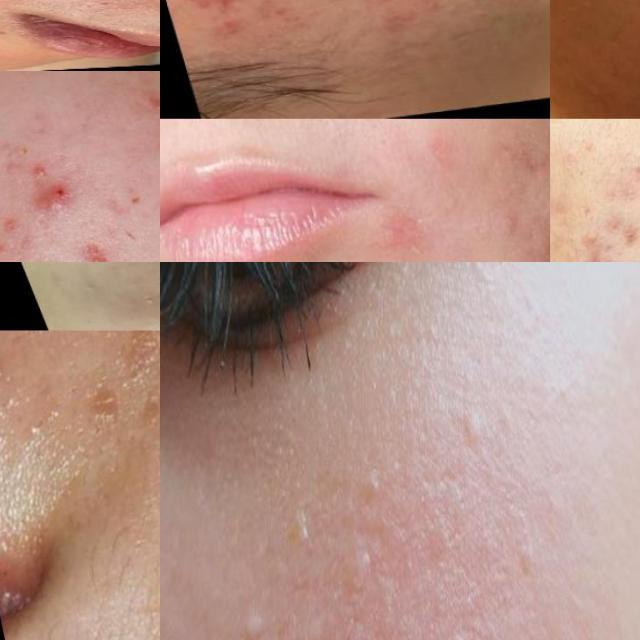acne_scars: (514, 213, 549, 262), (69, 230, 114, 262)
comedone: (129, 276, 160, 312), (435, 0, 473, 18)
flat_wart: (59, 330, 160, 464), (288, 496, 313, 560), (364, 468, 386, 510)
milium: (233, 599, 271, 640)
papule: (29, 171, 83, 217), (573, 216, 608, 251)
sebo-crystan-conglo: (192, 0, 256, 17)
